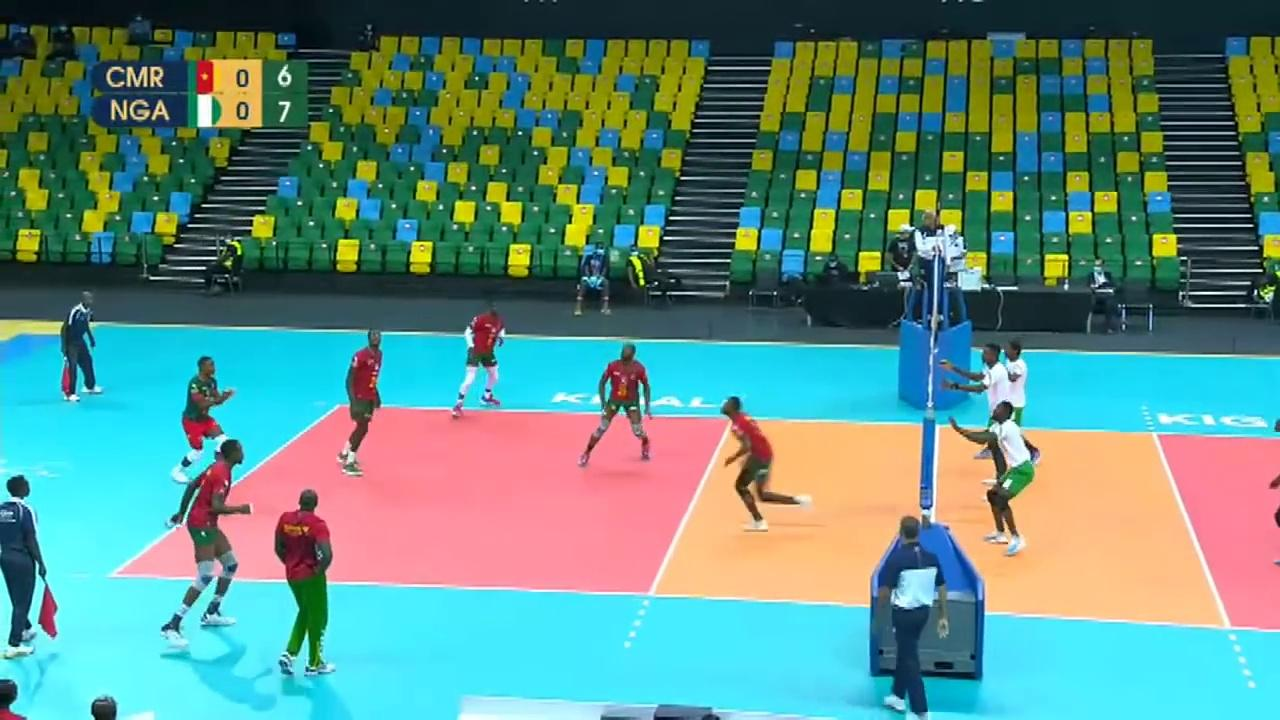player: (157, 442, 249, 640), (719, 398, 812, 531), (954, 406, 1038, 550), (575, 342, 656, 467), (967, 337, 1016, 507), (175, 358, 238, 482), (982, 338, 1040, 464), (339, 327, 385, 476), (453, 302, 508, 417)
refree: (869, 513, 951, 719), (0, 472, 59, 662), (911, 206, 954, 324), (61, 293, 103, 401)
